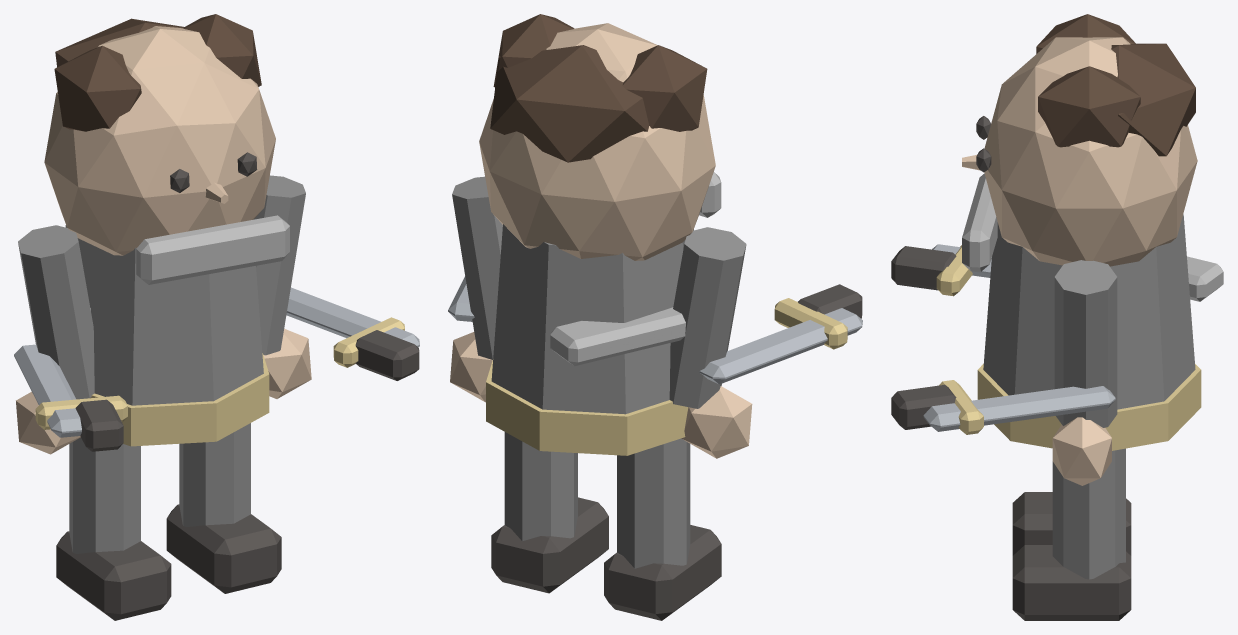
File: minihero-rogue.glb
3 renders of one model, left to right at view 1: azimuth 30°, elevation 25°; view 2: azimuth 150°, elevation 25°; view 3: azimuth 270°, elevation 25°, orthographic. The views are drawn at different scales.
Parts seen in each view (by area): view 1: head, rogue_torso, rogue_arm_l_upper, rogue_leg_l_leg, rogue_scarf, rogue_leg_l_boot, rogue_leg_r_boot, rogue_leg_r_leg, rogue_belt, hair_left, rogue_arm_r_upper, dagger_blade (+9 smaller); view 2: head, rogue_torso, hair_back, rogue_arm_l_upper, rogue_leg_l_leg, rogue_belt, rogue_leg_r_leg, rogue_leg_l_boot, rogue_leg_r_boot, rogue_arm_r_upper, hair_left, rogue_scarf_tail (+8 smaller); view 3: head, rogue_torso, rogue_arm_r_upper, rogue_leg_r_leg, rogue_leg_r_boot, hair_right, hair_back, rogue_belt, dagger_blade.001, rogue_arm_r_hand, rogue_leg_l_boot, rogue_scarf (+6 smaller).
Boxes of the visible parts, bbox=[...] form: head: bbox=[44, 26, 275, 255]; rogue_torso: bbox=[65, 225, 263, 405]; rogue_arm_l_upper: bbox=[18, 225, 94, 399]; rogue_leg_l_leg: bbox=[69, 437, 140, 553]; rogue_scarf: bbox=[136, 215, 289, 284]; rogue_leg_l_boot: bbox=[56, 531, 171, 620]; rogue_leg_r_boot: bbox=[166, 504, 281, 593]; rogue_leg_r_leg: bbox=[179, 423, 250, 526]; rogue_belt: bbox=[90, 353, 269, 446]; hair_left: bbox=[54, 45, 141, 131]; rogue_arm_r_upper: bbox=[254, 175, 305, 355]; dagger_blade: bbox=[14, 344, 81, 437]; head: bbox=[479, 23, 715, 260]; rogue_torso: bbox=[491, 224, 693, 414]; hair_back: bbox=[490, 45, 649, 162]; rogue_arm_l_upper: bbox=[669, 227, 746, 408]; rogue_leg_l_leg: bbox=[617, 438, 690, 568]; rogue_belt: bbox=[486, 359, 688, 455]; rogue_leg_r_leg: bbox=[504, 432, 577, 541]; rogue_leg_l_boot: bbox=[604, 525, 721, 620]; rogue_leg_r_boot: bbox=[491, 497, 608, 593]; rogue_arm_r_upper: bbox=[452, 176, 502, 359]; hair_left: bbox=[622, 45, 707, 131]; rogue_scarf_tail: bbox=[550, 307, 685, 366]; head: bbox=[984, 37, 1197, 266]; rogue_torso: bbox=[983, 214, 1195, 409]; rogue_arm_r_upper: bbox=[1054, 260, 1117, 427]; rogue_leg_r_leg: bbox=[1052, 448, 1125, 579]; rogue_leg_r_boot: bbox=[1012, 545, 1131, 620]; hair_right: bbox=[1038, 66, 1140, 147]; hair_back: bbox=[1111, 43, 1195, 156]; rogue_belt: bbox=[977, 364, 1201, 450]; dagger_blade.001: bbox=[923, 386, 1115, 431]; rogue_arm_r_hand: bbox=[1052, 417, 1111, 485]; rogue_leg_l_boot: bbox=[1012, 492, 1131, 555]; rogue_scarf: bbox=[962, 173, 997, 271].
Size of the model in its own units: 1.2 by 1.72 by 0.9512.
